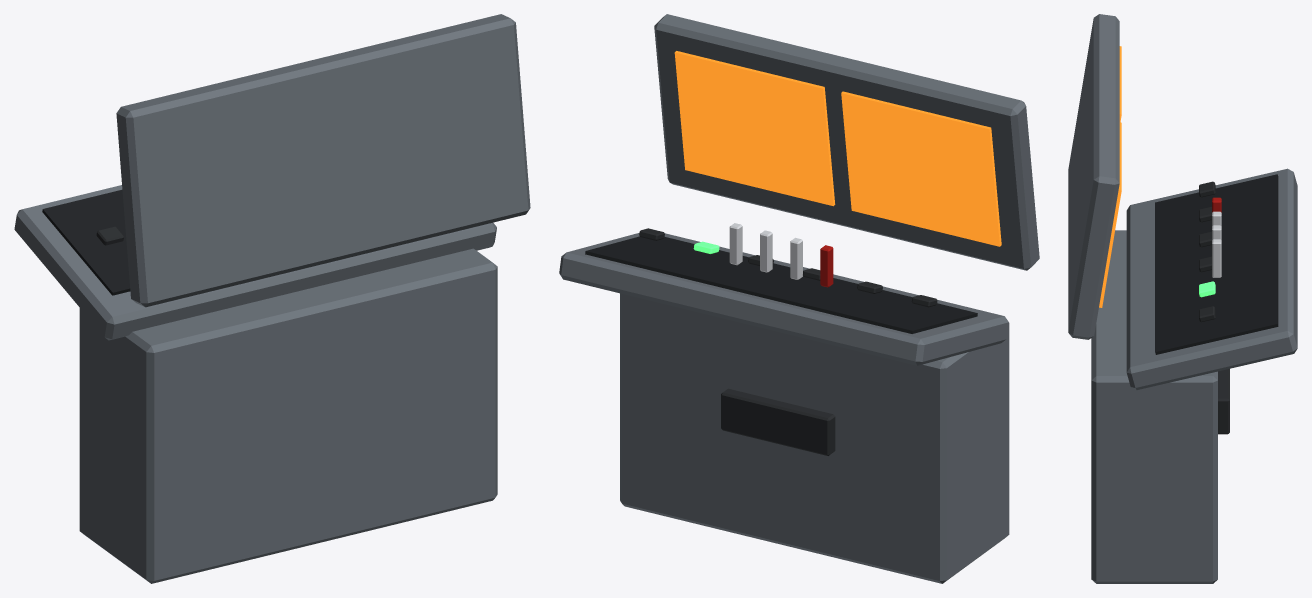
File: engine_control.glb
3 views of the same model, side by side, from view 1: azimuth 30°, elevation 25°; view 2: azimuth 150°, elevation 25°; view 3: azimuth 270°, elevation 25° (orthographic). The views are drawn at different scales.
Visible parts, largest first — view 1: engine_control; view 2: engine_control; view 3: engine_control.
Part boxes in pixels (x1=…): engine_control: x1=14, y1=14, x2=530, y2=583; engine_control: x1=559, y1=14, x2=1039, y2=583; engine_control: x1=1068, y1=14, x2=1297, y2=583.
Size of the model in its own units: 1.2 by 1.4 by 0.7.
